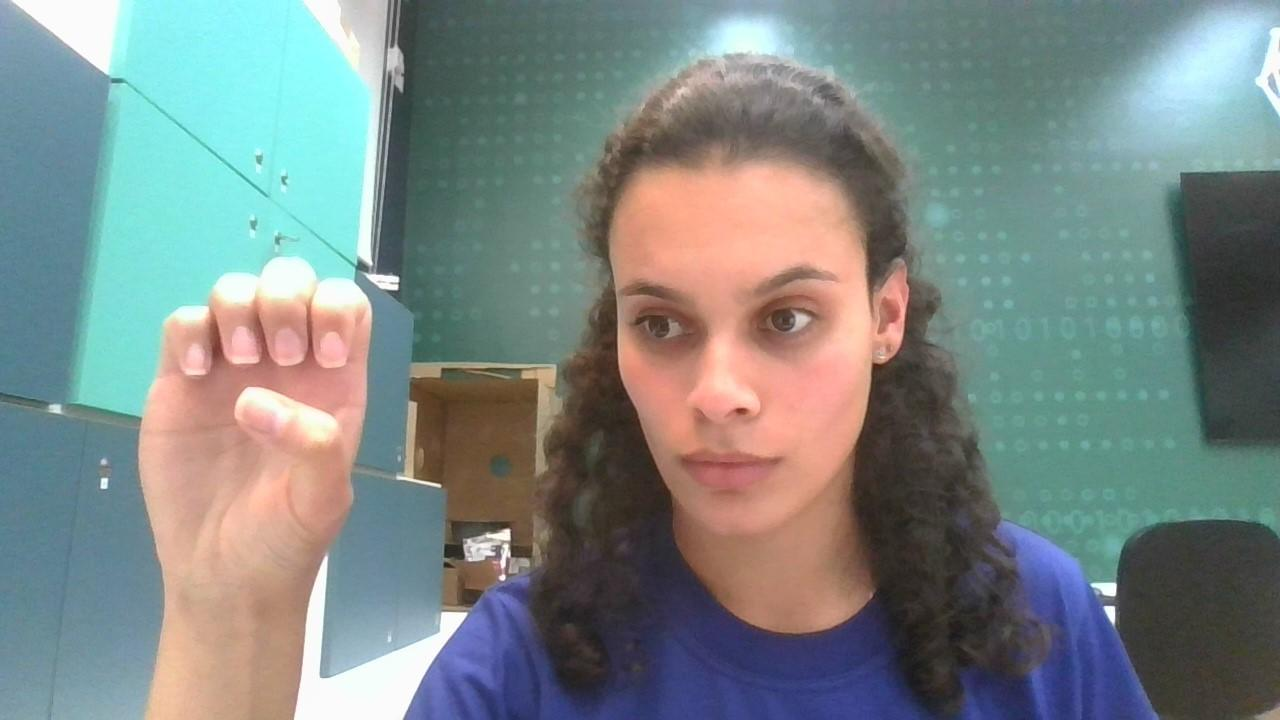E: (125, 245, 390, 622)
